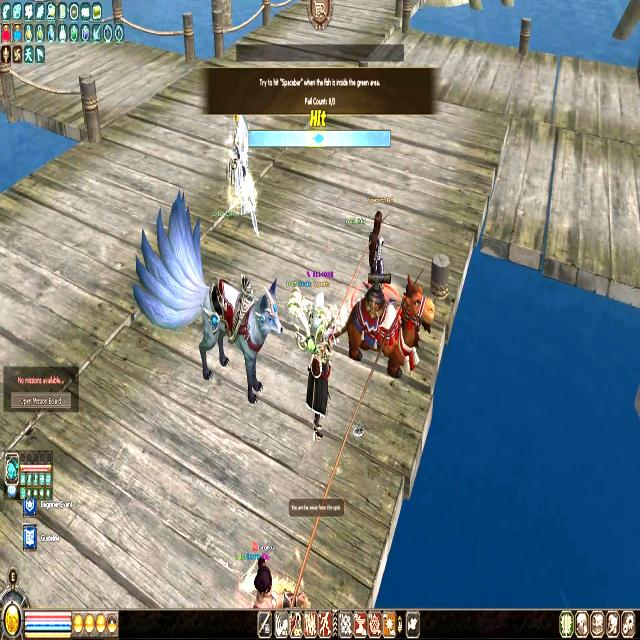fishes: (311, 132, 325, 146)
